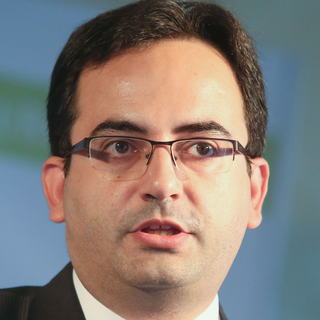eye: (95, 135, 142, 159), (179, 139, 228, 162)
